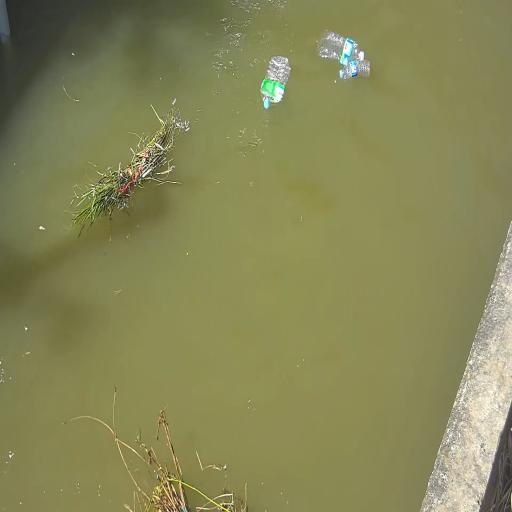plastic: (261, 56, 290, 109), (317, 31, 360, 65), (340, 60, 370, 81)
twig: (71, 389, 235, 512), (72, 103, 189, 229)
